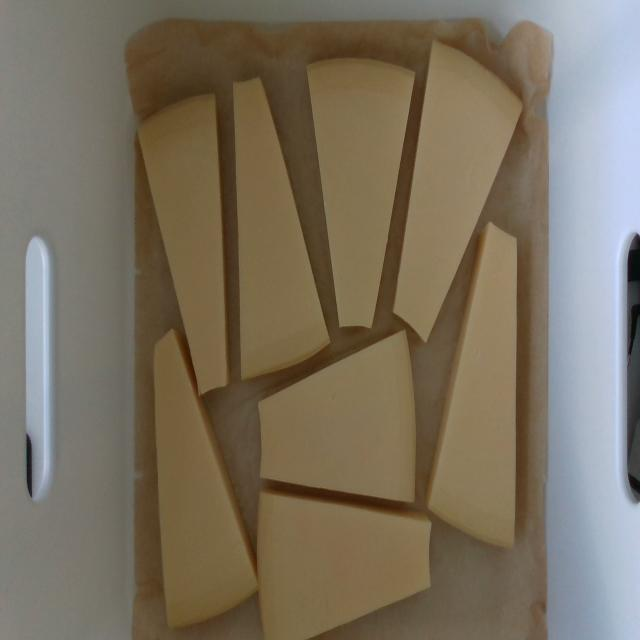Cheese: (392, 43, 524, 340), (155, 331, 257, 626), (306, 60, 414, 328), (234, 79, 329, 378), (429, 222, 516, 546), (260, 330, 414, 502), (139, 96, 228, 393), (258, 491, 431, 639)
